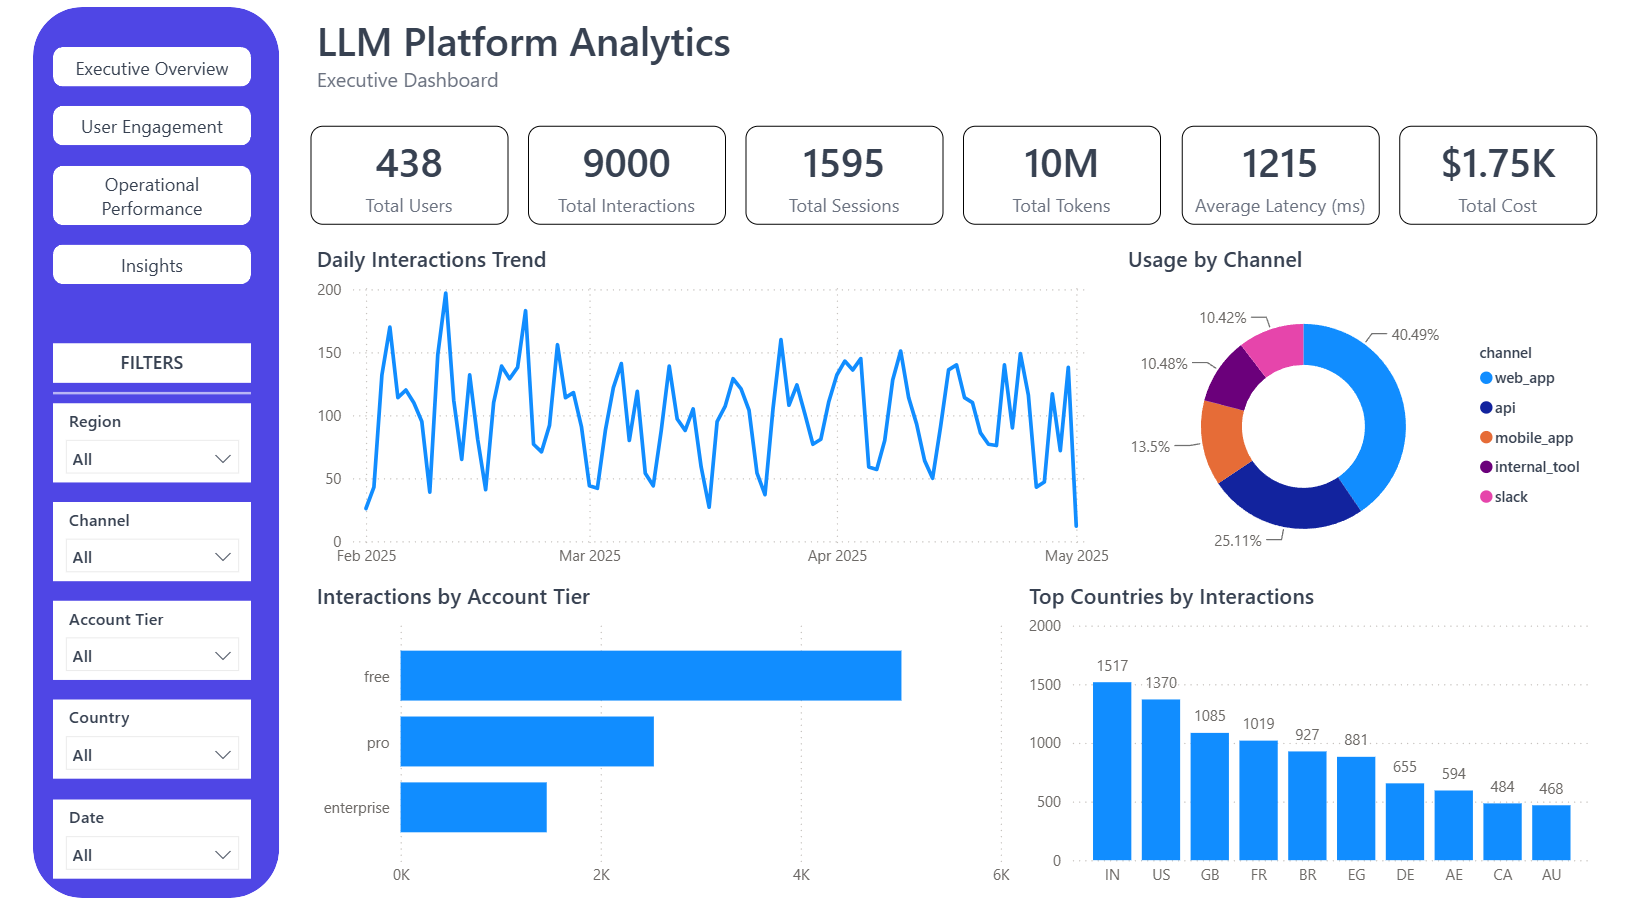

The page's visual inventory and layout, read from the dashboard file:
{"tool":"powerbi","page":{"name":"Executive Overview","canvas":[1280,720],"ordinal":0},"visuals":[{"type":"shape","box":[0,0,199,720],"z":0},{"type":"textbox","box":[224,0,1056,80],"z":1000},{"type":"actionButton","box":[16,32,160,32],"z":2000},{"type":"actionButton","box":[16,80,160,32],"z":3000},{"type":"actionButton","box":[16,128,160,48],"z":4000},{"type":"actionButton","box":[16,192,160,32],"z":5000},{"type":"textbox","box":[16,272,160,32],"z":6000},{"type":"shape","box":[16,304,160,16],"z":7000},{"type":"slicer","fields":{"Values":["llm_system_interactions_cleaned.region"]},"box":[16,320,160,64],"z":8000},{"type":"slicer","fields":{"Values":["llm_system_interactions_cleaned.channel"]},"box":[16,400,160,64],"z":9000},{"type":"slicer","fields":{"Values":["llm_system_interactions_cleaned.timestamp_utc"]},"box":[16,640,160,64],"z":10000},{"type":"slicer","fields":{"Values":["llm_system_interactions_cleaned.country_code"]},"box":[16,560,160,64],"z":11000},{"type":"slicer","fields":{"Values":["llm_system_interactions_cleaned.account_tier"]},"box":[16,480,160,64],"z":12000},{"type":"card","fields":{"Values":["llm_system_interactions_cleaned.Total Users"]},"box":[224,96,160,80],"z":13000},{"type":"card","fields":{"Values":["llm_system_interactions_cleaned.Total Interactions"]},"box":[400,96,160,80],"z":14000},{"type":"card","fields":{"Values":["llm_system_interactions_cleaned.Total Sessions"]},"box":[576,96,160,80],"z":15000},{"type":"card","fields":{"Values":["llm_system_interactions_cleaned.Total Tokens"]},"box":[752,96,160,80],"z":16000},{"type":"card","fields":{"Values":["llm_system_interactions_cleaned.Average Latency (ms)"]},"box":[928,96,160,80],"z":17000},{"type":"card","fields":{"Values":["llm_system_interactions_cleaned.Total Cost"]},"box":[1104,96,160,80],"z":18000},{"type":"lineChart","title":"Daily Interactions Trend","fields":{"Y":["llm_system_interactions_cleaned.Total Interactions"],"Category":["llm_system_interactions_cleaned.timestamp_utc.Variation.Date Hierarchy.Year","llm_system_interactions_cleaned.timestamp_utc.Variation.Date Hierarchy.Quarter","llm_system_interactions_cleaned.timestamp_utc.Variation.Date Hierarchy.Month","llm_system_interactions_cleaned.timestamp_utc.Variation.Date Hierarchy.Day"]},"box":[224,192,650,270],"z":19000},{"type":"donutChart","title":"Usage by Channel","fields":{"Category":["llm_system_interactions_cleaned.channel"],"Y":["llm_system_interactions_cleaned.Total Interactions"]},"box":[880,192,384,272],"z":20000},{"type":"clusteredBarChart","title":"Interactions by Account Tier","fields":{"Category":["llm_system_interactions_cleaned.account_tier"],"Y":["llm_system_interactions_cleaned.Total Interactions"]},"box":[224,464,570,256],"z":21000},{"type":"clusteredColumnChart","title":"Top Countries by Interactions","fields":{"Category":["llm_system_interactions_cleaned.country_code"],"Y":["llm_system_interactions_cleaned.Total Interactions"]},"box":[800,464,464,256],"z":22000}]}

Visuals, with their boxes in screenshot pixels (x1, y1, x2, y2), scaled from the page's 1280x720 canvas onto the 1637x906 screenshot:
shape: box(0, 0, 255, 905)
textbox: box(286, 0, 1636, 101)
actionButton: box(20, 40, 225, 81)
actionButton: box(20, 101, 225, 141)
actionButton: box(20, 161, 225, 221)
actionButton: box(20, 242, 225, 282)
textbox: box(20, 342, 225, 383)
shape: box(20, 383, 225, 403)
slicer - llm_system_interactions_cleaned.region: box(20, 403, 225, 483)
slicer - llm_system_interactions_cleaned.channel: box(20, 503, 225, 584)
slicer - llm_system_interactions_cleaned.timestamp_utc: box(20, 805, 225, 886)
slicer - llm_system_interactions_cleaned.country_code: box(20, 705, 225, 785)
slicer - llm_system_interactions_cleaned.account_tier: box(20, 604, 225, 685)
card - llm_system_interactions_cleaned.Total Users: box(286, 121, 491, 221)
card - llm_system_interactions_cleaned.Total Interactions: box(512, 121, 716, 221)
card - llm_system_interactions_cleaned.Total Sessions: box(737, 121, 941, 221)
card - llm_system_interactions_cleaned.Total Tokens: box(962, 121, 1166, 221)
card - llm_system_interactions_cleaned.Average Latency (ms): box(1187, 121, 1391, 221)
card - llm_system_interactions_cleaned.Total Cost: box(1412, 121, 1617, 221)
"Daily Interactions Trend" lineChart: box(286, 242, 1118, 581)
"Usage by Channel" donutChart: box(1125, 242, 1617, 584)
"Interactions by Account Tier" clusteredBarChart: box(286, 584, 1015, 905)
"Top Countries by Interactions" clusteredColumnChart: box(1023, 584, 1617, 905)
